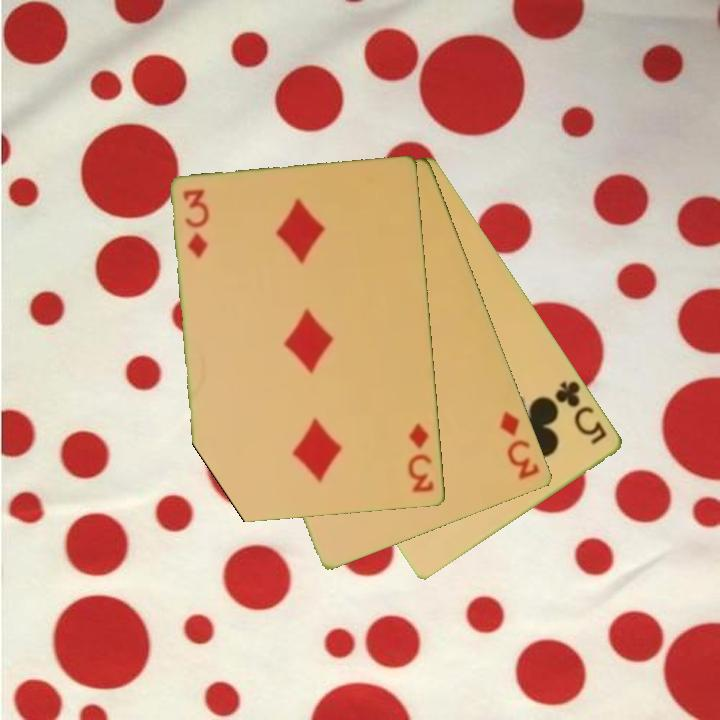3d: (495, 407, 544, 483), (405, 420, 437, 496), (180, 186, 212, 261)
5c: (552, 377, 611, 448)
